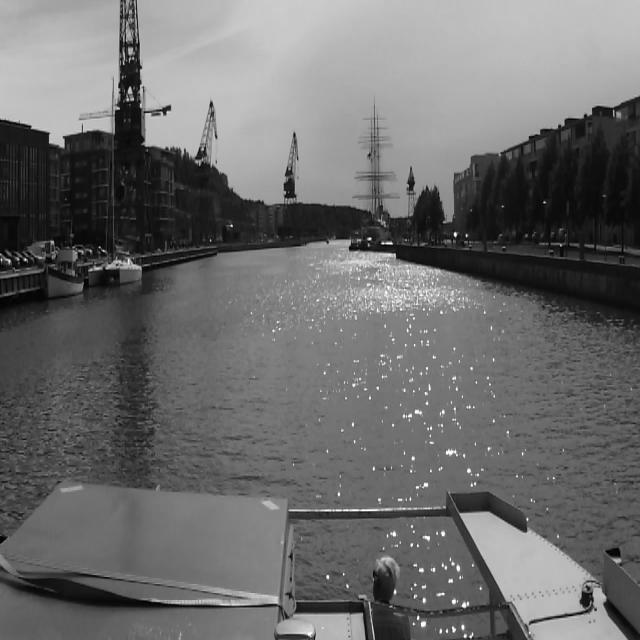ship: (86, 77, 142, 287), (352, 92, 402, 250), (43, 232, 85, 301)
